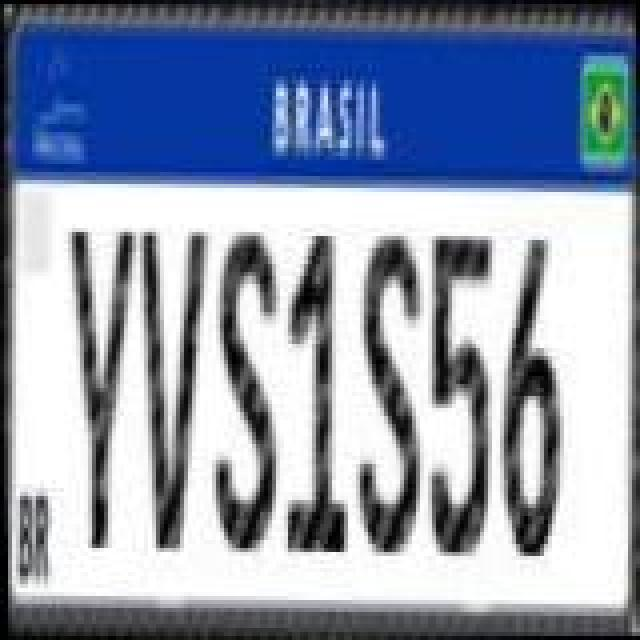1: (280, 226, 360, 558)
5: (420, 226, 500, 562)
6: (492, 230, 572, 562)
S: (204, 226, 284, 562), (348, 226, 428, 562)
V: (130, 220, 214, 552)
Y: (60, 224, 140, 552)
